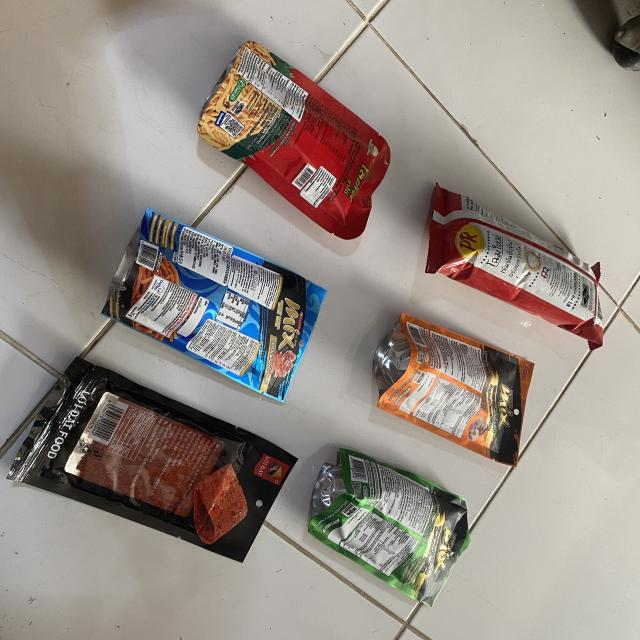plastik: (8, 358, 296, 561), (102, 209, 326, 401), (199, 41, 390, 239), (426, 184, 602, 350), (309, 449, 470, 605), (374, 312, 534, 466)
